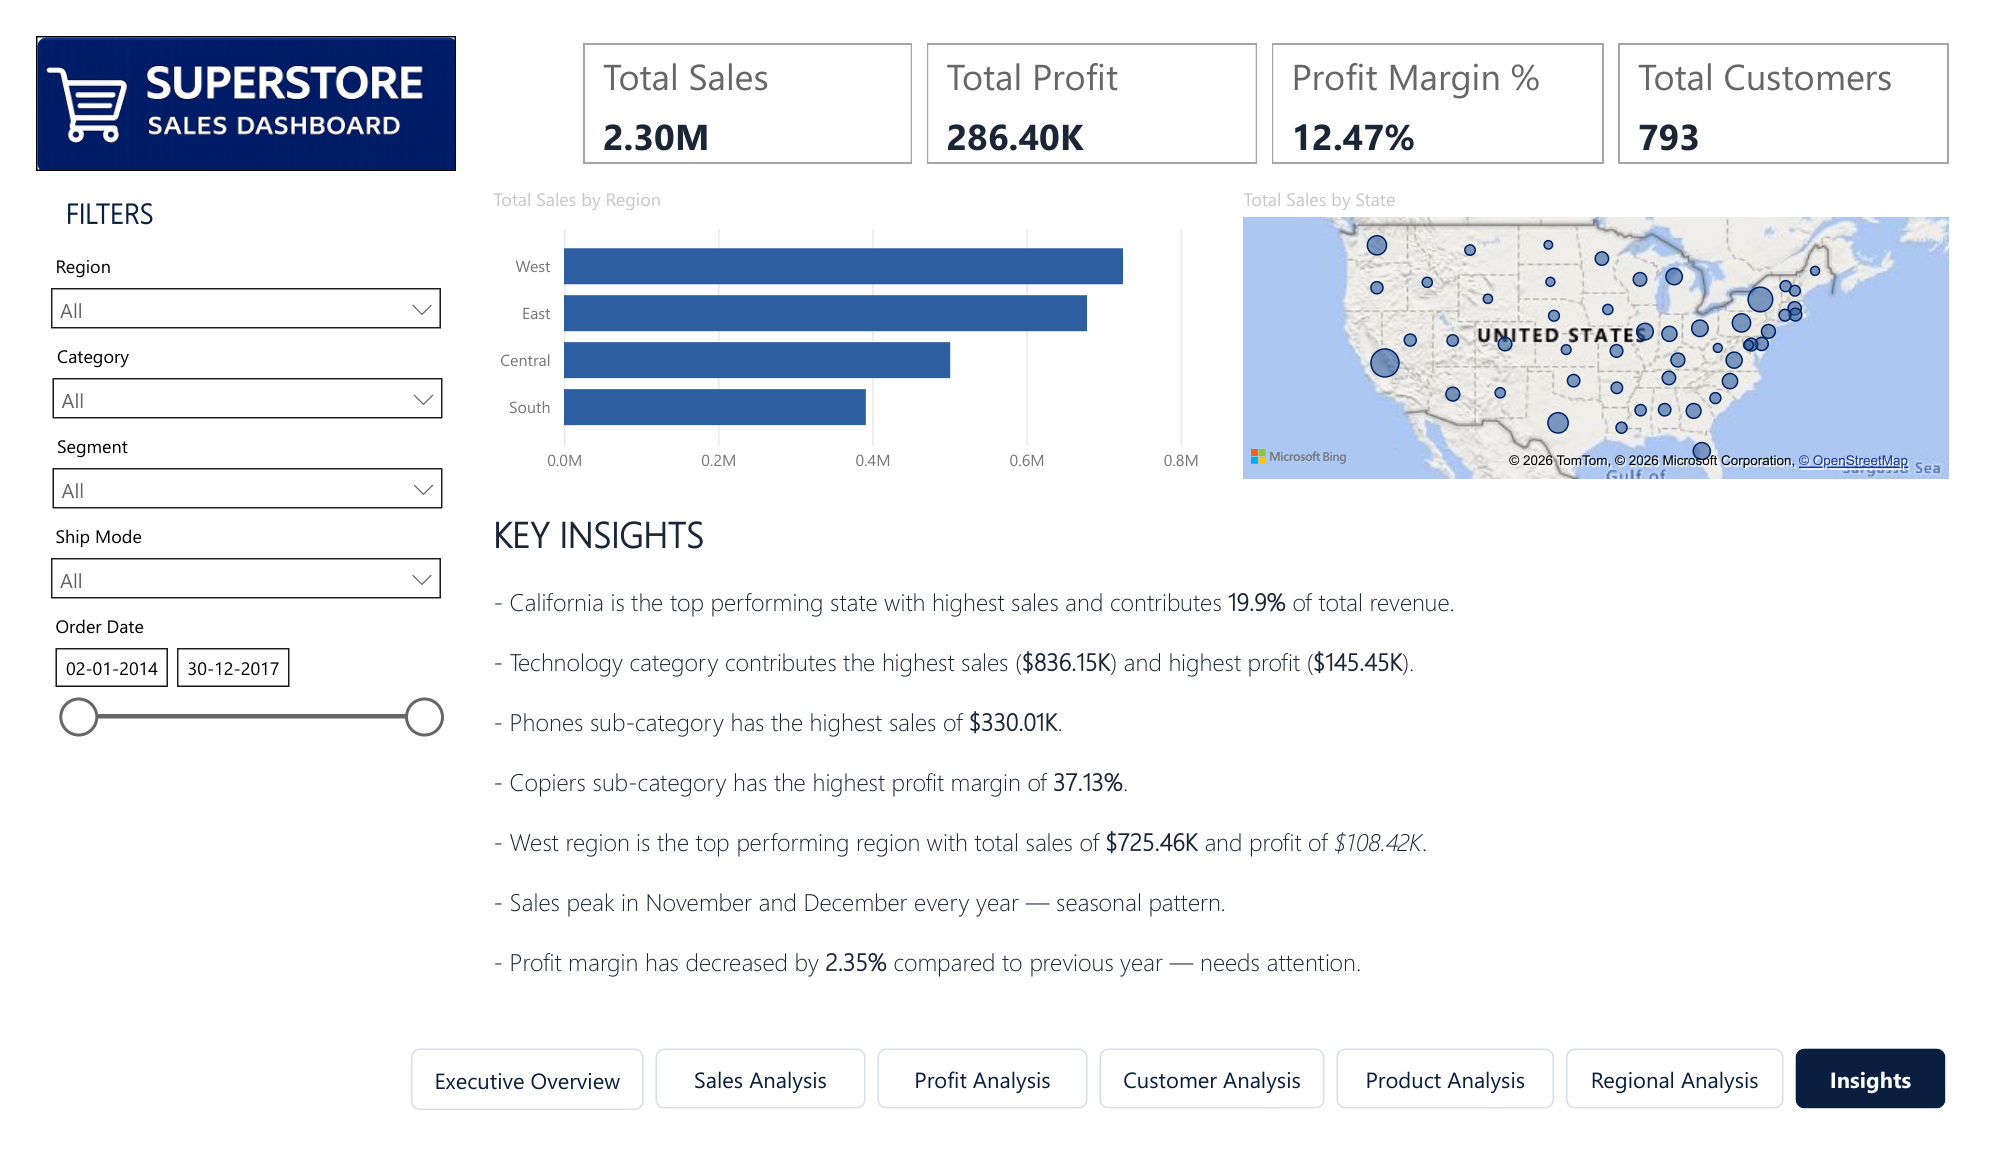

Layout of this report page (visuals, bound fields, positions):
{"tool":"powerbi","page":{"name":"Insights","canvas":[1280,720],"ordinal":6},"visuals":[{"type":"cardVisual","fields":{"Data":["Sample - Superstore 2.Total Sales"]},"box":[359.5,0,229.7,89.6],"z":0},{"type":"cardVisual","fields":{"Data":["Sample - Superstore 2.Total Customers"]},"box":[1049.9,0,229.7,89.6],"z":1000},{"type":"cardVisual","fields":{"Data":["Sample - Superstore 2.Total Profit"]},"box":[589.3,0,229.7,89.6],"z":2000},{"type":"cardVisual","fields":{"Data":["Sample - Superstore 2.Profit Margin %"]},"box":[819,0,230.9,89.6],"z":3000},{"type":"map","fields":{"Category":["Sample - Superstore 2.State"],"Size":["Sample - Superstore 2.Total Sales"]},"box":[800,100,480,200],"z":4000},{"type":"clusteredBarChart","fields":{"Y":["Sample - Superstore 2.Total Sales"],"Category":["Sample - Superstore 2.Region"]},"box":[300,100,480,200],"z":5000},{"type":"textbox","box":[300,310,980,355],"z":6000},{"type":"actionButton","title":"sdgtsdgte","box":[250,675,155,40.7],"z":7000},{"type":"actionButton","box":[413,675,140,40],"z":8000},{"type":"actionButton","box":[867,675,145,40],"z":9000},{"type":"actionButton","box":[709,675,150,40],"z":10000},{"type":"actionButton","box":[561,675,140,40],"z":11000},{"type":"actionButton","box":[1020,675,145,40],"z":12000},{"type":"actionButton","box":[1173,675,100,40],"z":13000},{"type":"slicer","fields":{"Values":["Sample - Superstore 2.Region"]},"box":[0,140,280,55],"z":14000},{"type":"slicer","fields":{"Values":["Sample - Superstore 2.Category"]},"box":[1.1,200,280,55],"z":15000},{"type":"slicer","fields":{"Values":["Sample - Superstore 2.Order Date"]},"box":[0,380,280.3,130],"z":16000},{"type":"slicer","fields":{"Values":["Sample - Superstore 2.Segment"]},"box":[1.1,260,280,55],"z":17000},{"type":"slicer","fields":{"Values":["Sample - Superstore 2.Ship Mode"]},"box":[0,320,280,54.6],"z":18000},{"type":"image","box":[0,0,280.3,89.6],"z":19000},{"type":"textbox","box":[15,100,200,35],"z":20000}]}

Visuals, with their boxes in screenshot pixels (x1, y1, x2, y2), scaled from the page's 1280x720 canvas onto the 1992x1152 screenshot:
cardVisual - Sample - Superstore 2.Total Sales: 559,0,917,143
cardVisual - Sample - Superstore 2.Total Customers: 1634,0,1991,143
cardVisual - Sample - Superstore 2.Total Profit: 917,0,1275,143
cardVisual - Sample - Superstore 2.Profit Margin %: 1275,0,1634,143
map - Sample - Superstore 2.State x Sample - Superstore 2.Total Sales: 1245,160,1991,480
clusteredBarChart - Sample - Superstore 2.Total Sales x Sample - Superstore 2.Region: 467,160,1214,480
textbox: 467,496,1991,1064
"sdgtsdgte" actionButton: 389,1080,630,1145
actionButton: 643,1080,861,1144
actionButton: 1349,1080,1575,1144
actionButton: 1103,1080,1337,1144
actionButton: 873,1080,1091,1144
actionButton: 1587,1080,1813,1144
actionButton: 1825,1080,1981,1144
slicer - Sample - Superstore 2.Region: 0,224,436,312
slicer - Sample - Superstore 2.Category: 2,320,437,408
slicer - Sample - Superstore 2.Order Date: 0,608,436,816
slicer - Sample - Superstore 2.Segment: 2,416,437,504
slicer - Sample - Superstore 2.Ship Mode: 0,512,436,599
image: 0,0,436,143
textbox: 23,160,335,216
